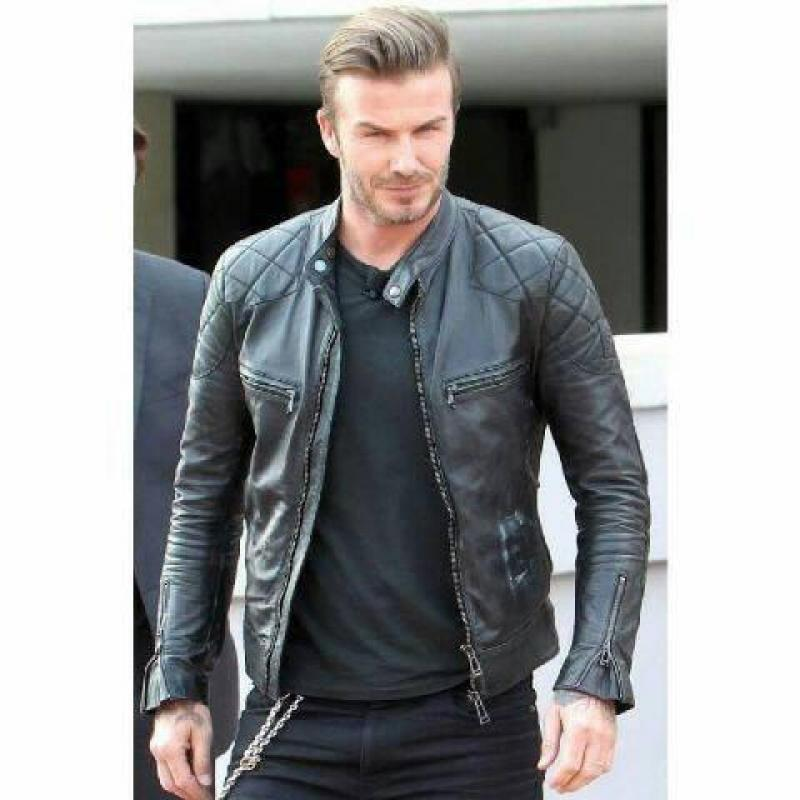jacket: (141, 187, 653, 715)
short sleeve shirt: (274, 239, 475, 698)
trousers: (218, 676, 544, 800)
